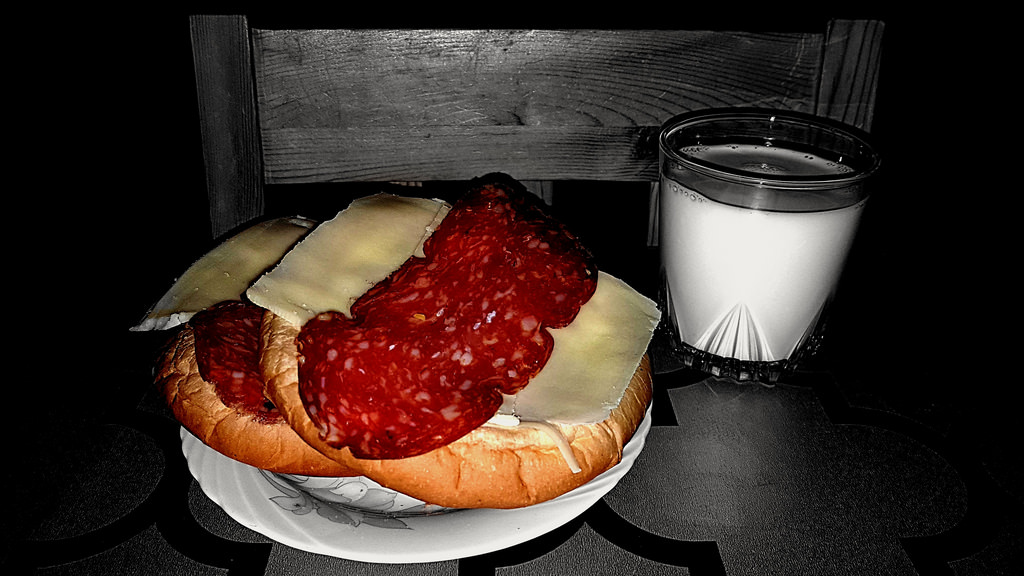glass of milk: (663, 111, 850, 388)
slice of bread: (152, 380, 614, 498)
